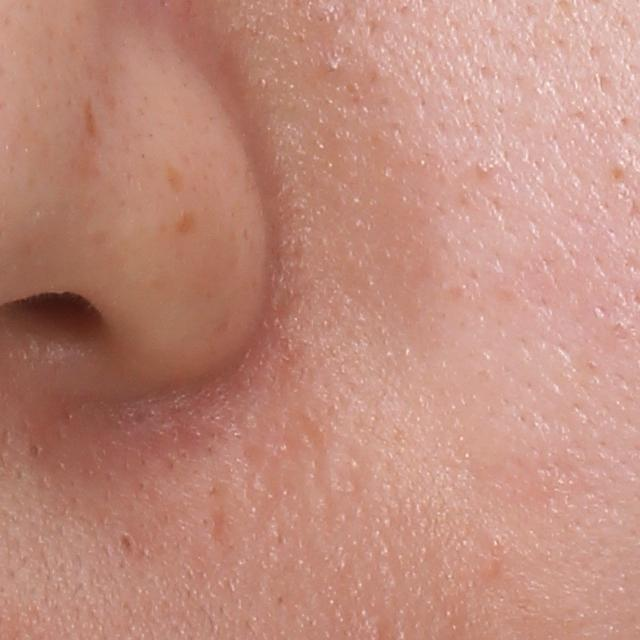comedo: (25, 439, 44, 459)
melasma: (162, 158, 187, 197), (172, 206, 199, 235)
